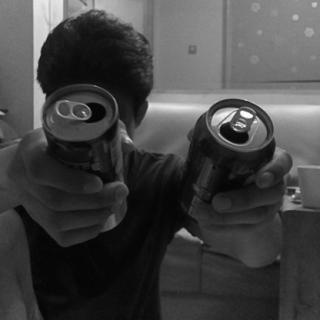alumunium_can: (40, 82, 128, 233), (175, 99, 277, 226)
